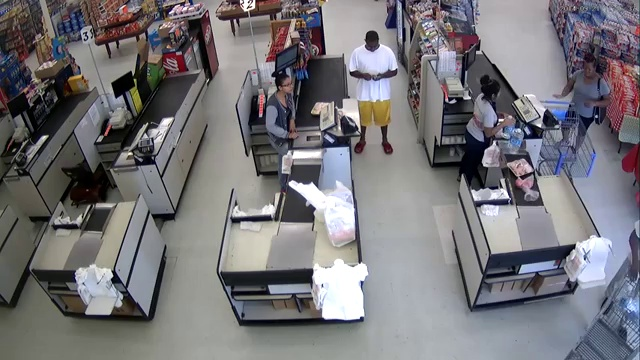face: (281, 77, 294, 94), (366, 40, 379, 53), (584, 62, 593, 77)
